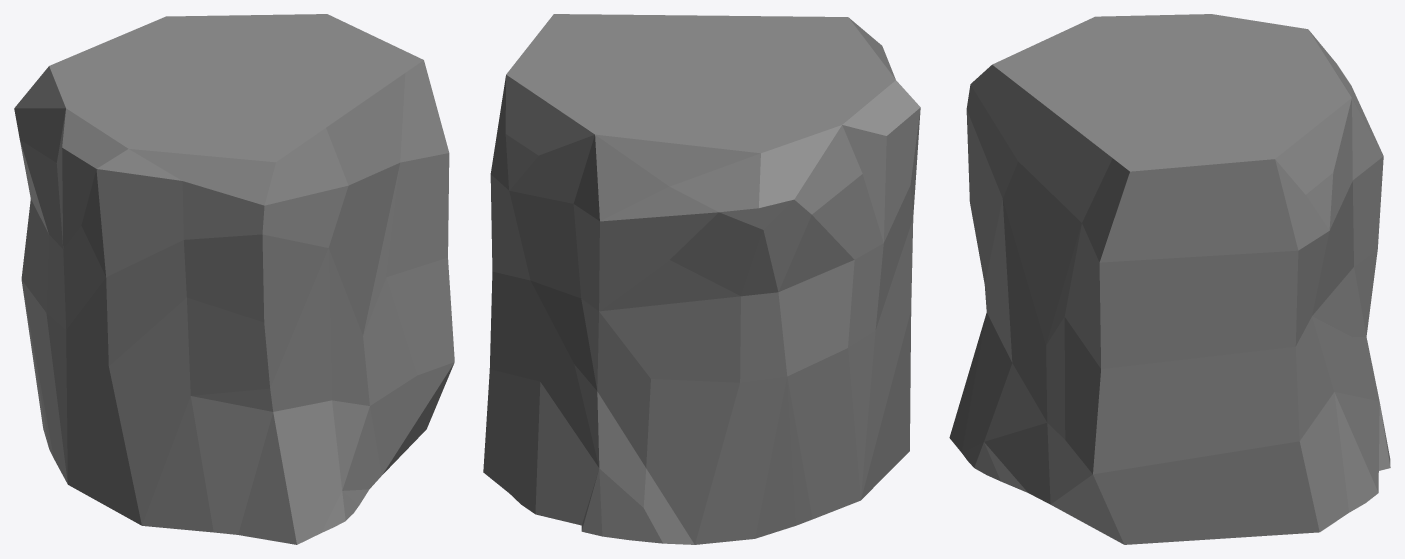
Rendered from SM_Cliff2_LOD0.fbx.
3 renders of one model, left to right at view 1: azimuth 30°, elevation 25°; view 2: azimuth 150°, elevation 25°; view 3: azimuth 270°, elevation 25°, orthographic. The views are drawn at different scales.
Parts seen in each view (by area): view 1: SM_Cliff2_LOD0; view 2: SM_Cliff2_LOD0; view 3: SM_Cliff2_LOD0.
Boxes of the visible parts, x1,y1,x2,y2 form: SM_Cliff2_LOD0: (14,14,454,544); SM_Cliff2_LOD0: (483,14,920,544); SM_Cliff2_LOD0: (949,14,1390,544).
Bounding box in the file's own units: 5.55 × 5.47 × 5.86.
